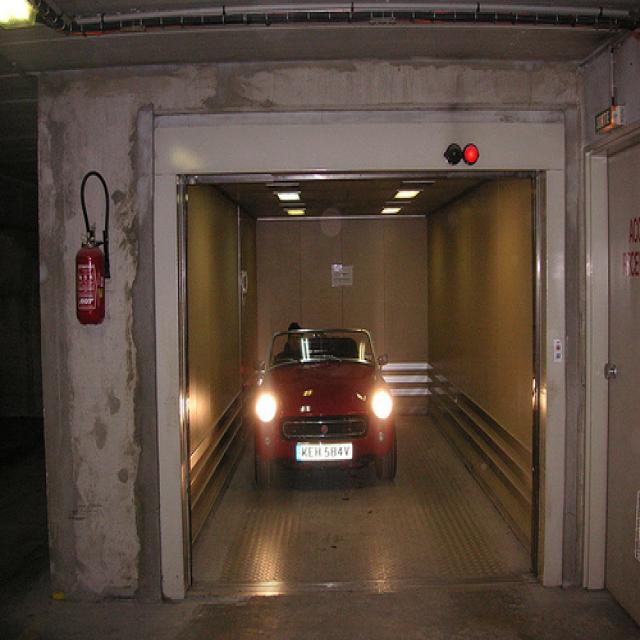Car: (248, 323, 400, 499)
